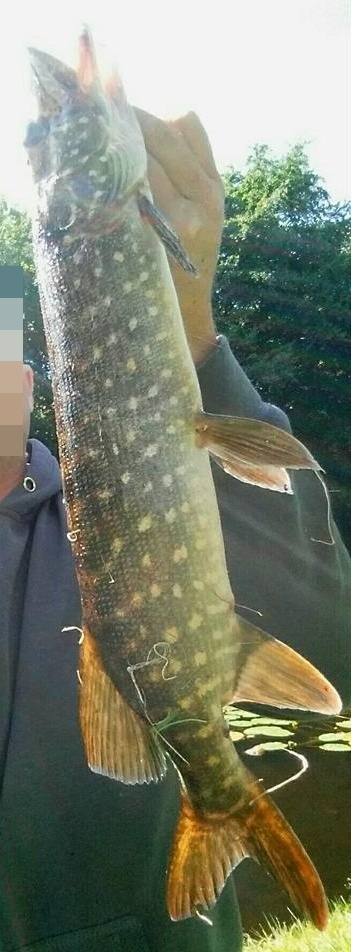Esox lucius: (20, 20, 340, 932)
